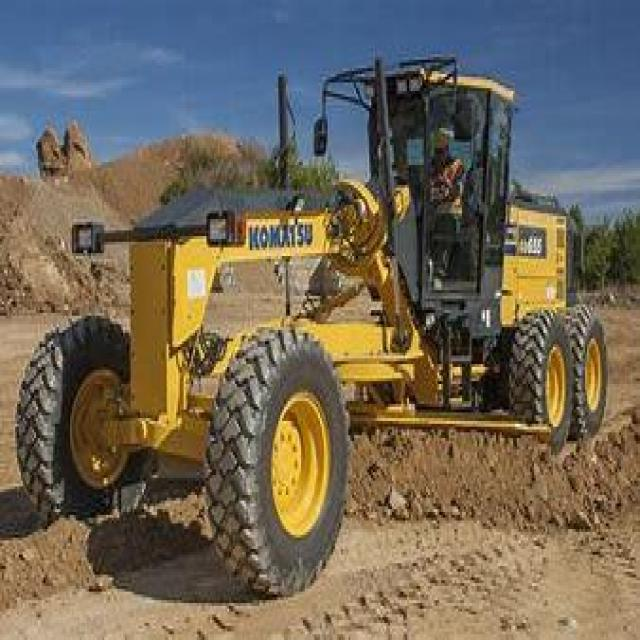Grader: (36, 49, 619, 600)
